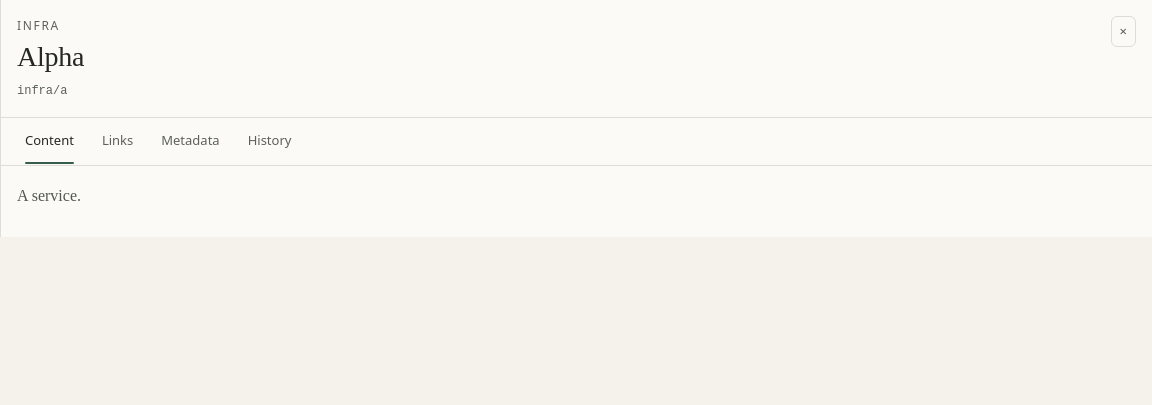
Scenario: the Inspector History tab › says when the list is truncated and shows the server's note
Click the tab "History".
click(270, 142)  # box [236,118,303,165]
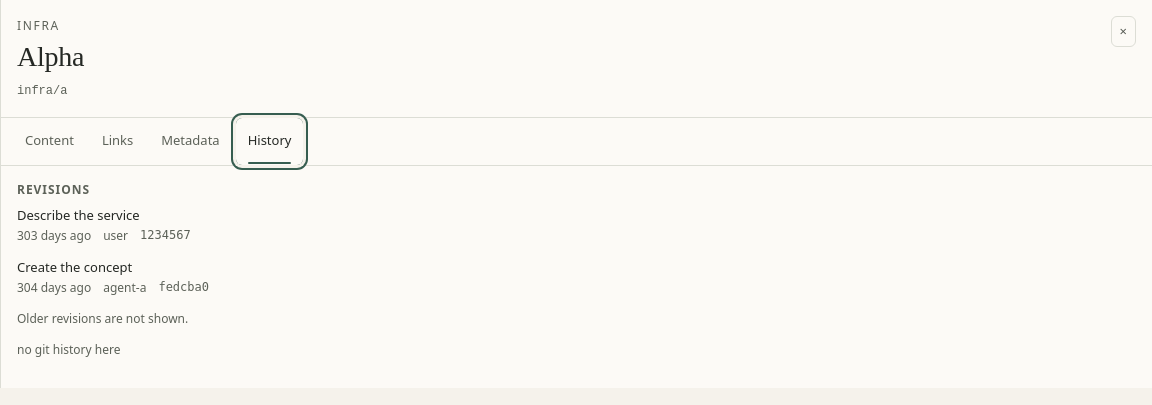
Result: the text "Older revisions are not shown." is shown at [17,310,188,327]
Result: the text "no git history here" is shown at [17,341,120,358]
